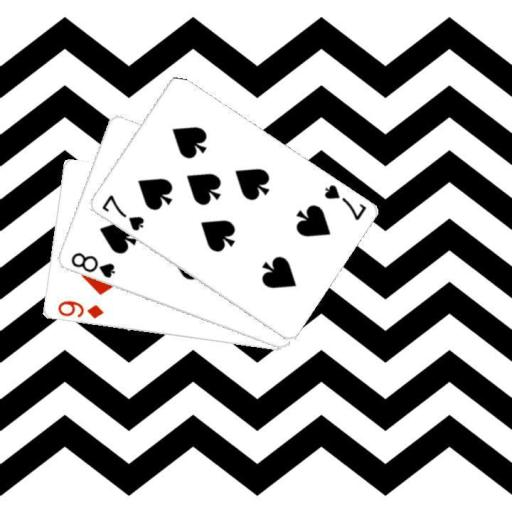card-corner: (97, 192, 146, 232), (320, 182, 368, 222), (68, 249, 116, 280), (54, 297, 105, 320)
